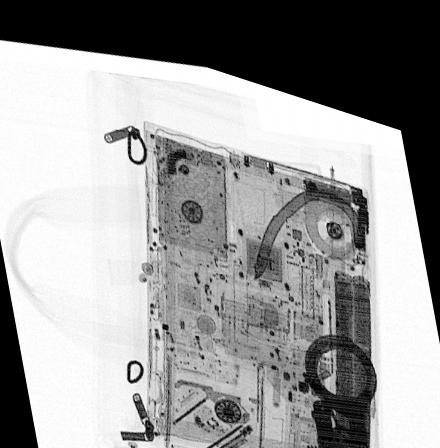HandCuffs: (295, 309, 377, 448)
